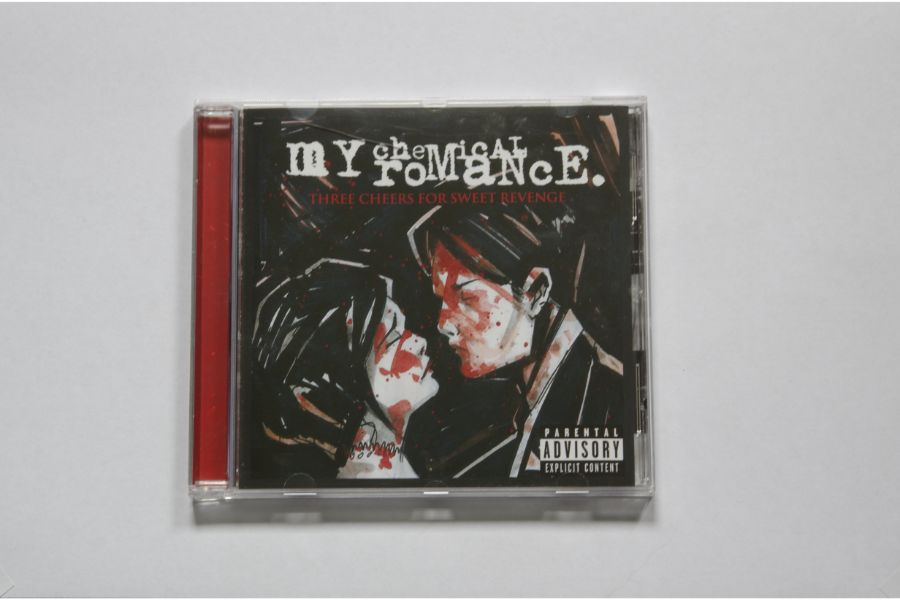album: (187, 96, 658, 498)
